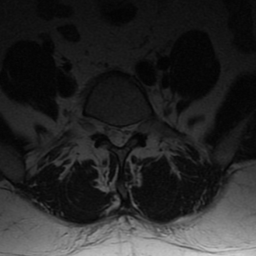CCS_normal: (115, 116, 123, 155)
LFS_normal: (132, 109, 140, 142)
LLS_normal: (123, 115, 132, 150)
RFS_normal: (96, 108, 106, 143)
RLS_normal: (105, 114, 115, 150)
